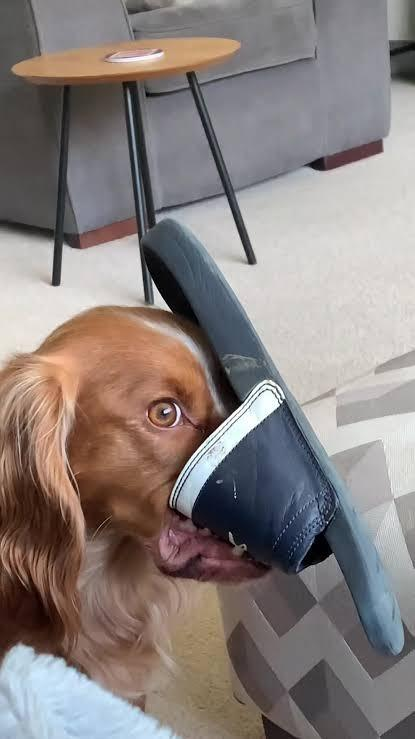adult_dog: (0, 306, 270, 712)
